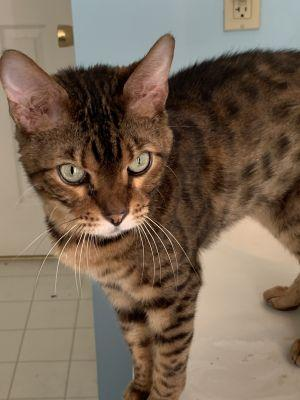bengal: (1, 28, 198, 255)
